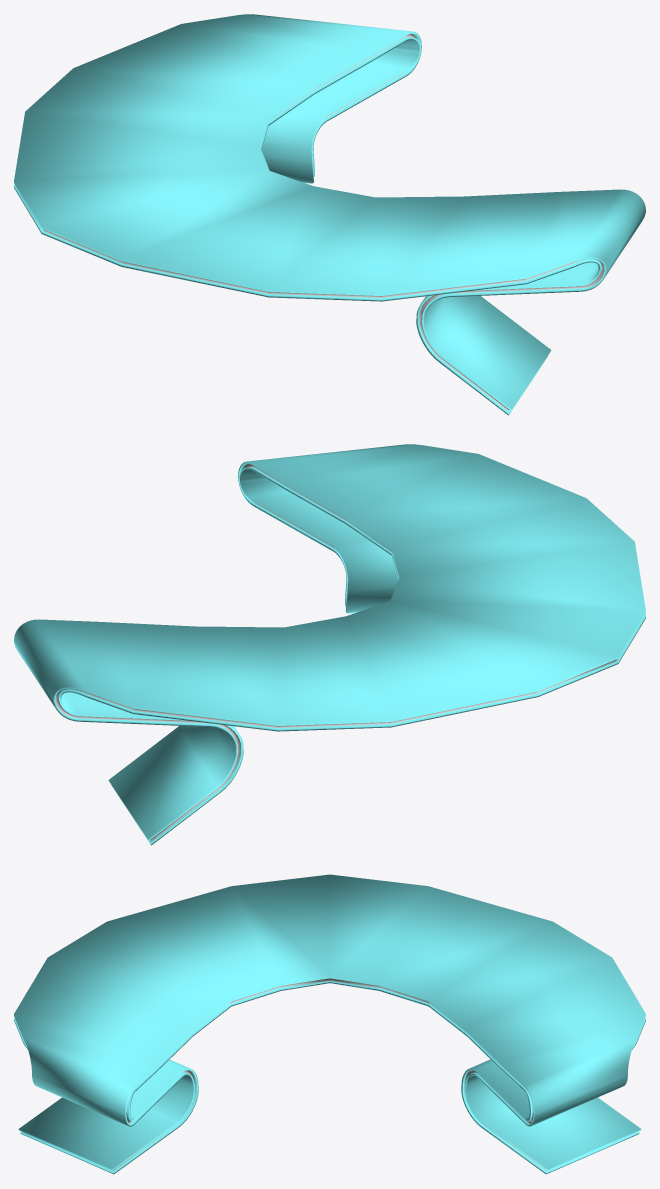
File: table substance mesh.fbx
3 renders of one model, top to bottom at view 1: azimuth 30°, elevation 25°; view 2: azimuth 150°, elevation 25°; view 3: azimuth 270°, elevation 25°, orthographic. The views are drawn at different scales.
Parts seen in each view (by area): view 1: Plane (×2); view 2: Plane (×2); view 3: Plane (×2).
Boxes of the visible parts, x1,y1,x2,y2 form: Plane (×2): [14, 14, 645, 415]; Plane (×2): [14, 444, 645, 845]; Plane (×2): [14, 874, 645, 1174].
Bounding box in the file's own units: 547 × 147 × 664.
